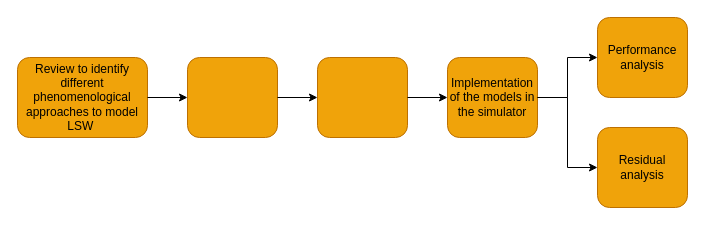
Some shapes in this 705 by 225 pixel diagram are drawn without their labels. The box of each missing label's shape, as (x1, y1, x2, y2) in pixels:
Seven models were selected: (316, 56, 408, 138)
Three main approaches were selected: (186, 56, 278, 138)
